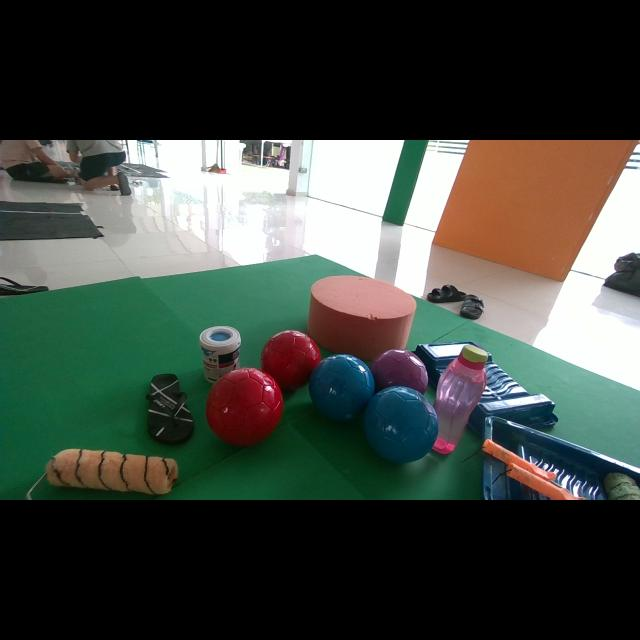B: (365, 386, 438, 464), (309, 354, 375, 421)
P: (369, 349, 428, 394)
R: (206, 368, 284, 446), (261, 330, 321, 389)
